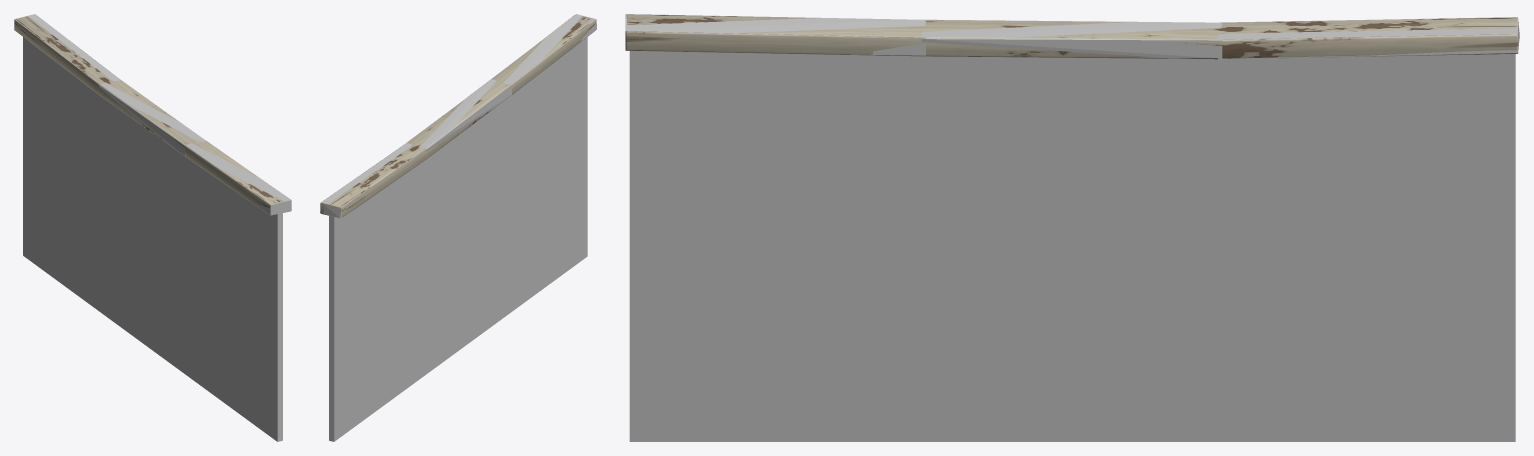
File: SM_Hangar01P_2.fbx
3 renders of one model, left to right at view 1: azimuth 30°, elevation 25°; view 2: azimuth 150°, elevation 25°; view 3: azimuth 270°, elevation 25°, orthographic. The views are drawn at different scales.
Parts seen in each view (by area): view 1: SM_Hangar01P_2_ConvexHulls, SM_Hangar01P_2; view 2: SM_Hangar01P_2_ConvexHulls, SM_Hangar01P_2; view 3: SM_Hangar01P_2_ConvexHulls, SM_Hangar01P_2.
Part boxes in pixels (bbox=[...]): SM_Hangar01P_2_ConvexHulls: bbox=[14, 14, 291, 441]; SM_Hangar01P_2: bbox=[14, 15, 291, 215]; SM_Hangar01P_2_ConvexHulls: bbox=[320, 14, 596, 441]; SM_Hangar01P_2: bbox=[320, 15, 596, 217]; SM_Hangar01P_2_ConvexHulls: bbox=[625, 14, 1519, 441]; SM_Hangar01P_2: bbox=[625, 14, 1518, 59].
Size of the model in its own units: 20.29 by 416 by 214.
Materials: 4 (3 with a texture image).
